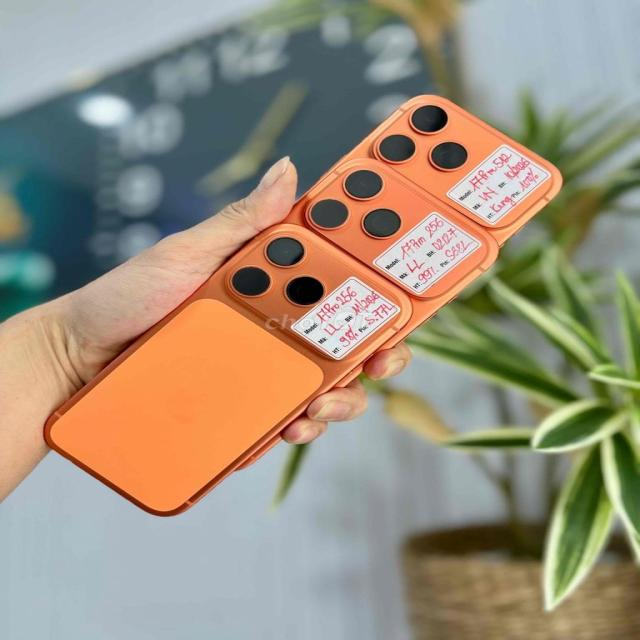gen_17: (52, 299, 322, 511)
